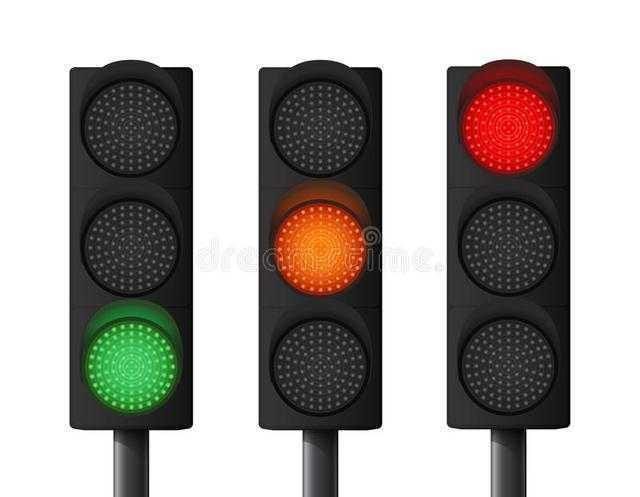3: (442, 298, 580, 432), (66, 54, 196, 187), (254, 53, 390, 176), (444, 180, 578, 299), (258, 307, 385, 432), (68, 188, 196, 298)
5: (439, 50, 583, 181)
9: (261, 180, 384, 309)
red traffic light: (68, 300, 196, 429)
